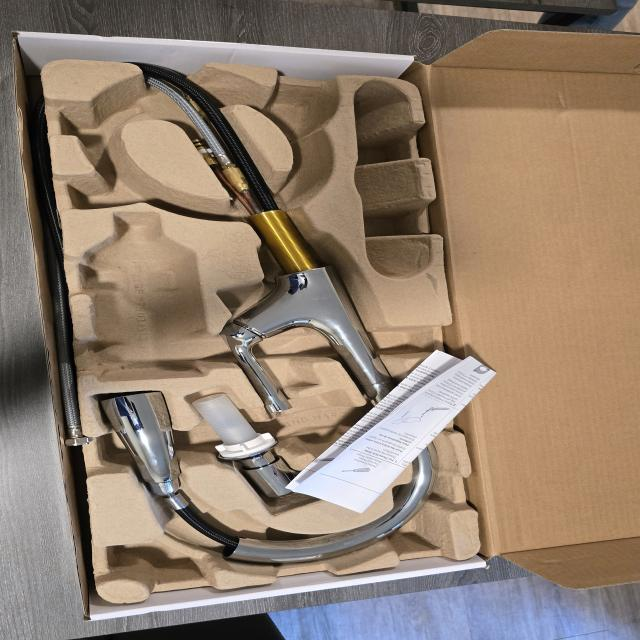1o: (100, 64, 439, 564)
2o: (190, 394, 367, 497)
3m: (85, 213, 205, 379)
4m: (356, 80, 432, 279)
5m: (263, 86, 335, 134)
6m: (60, 92, 151, 146)
7m: (69, 158, 181, 211)
8: (284, 349, 500, 515)
